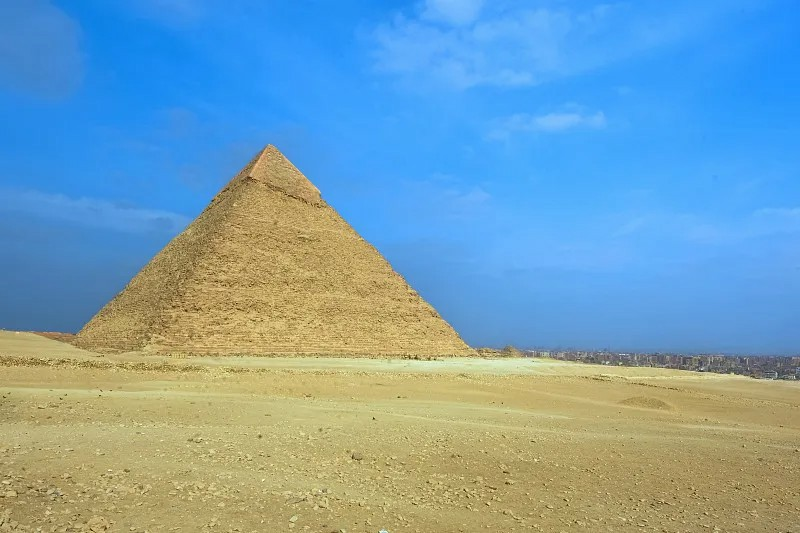Pyramid: (71, 143, 482, 359)
